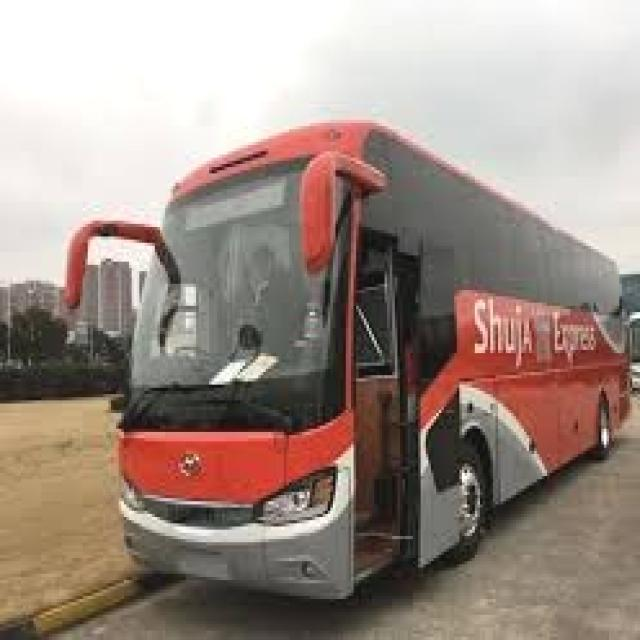bus: (46, 96, 636, 633)
